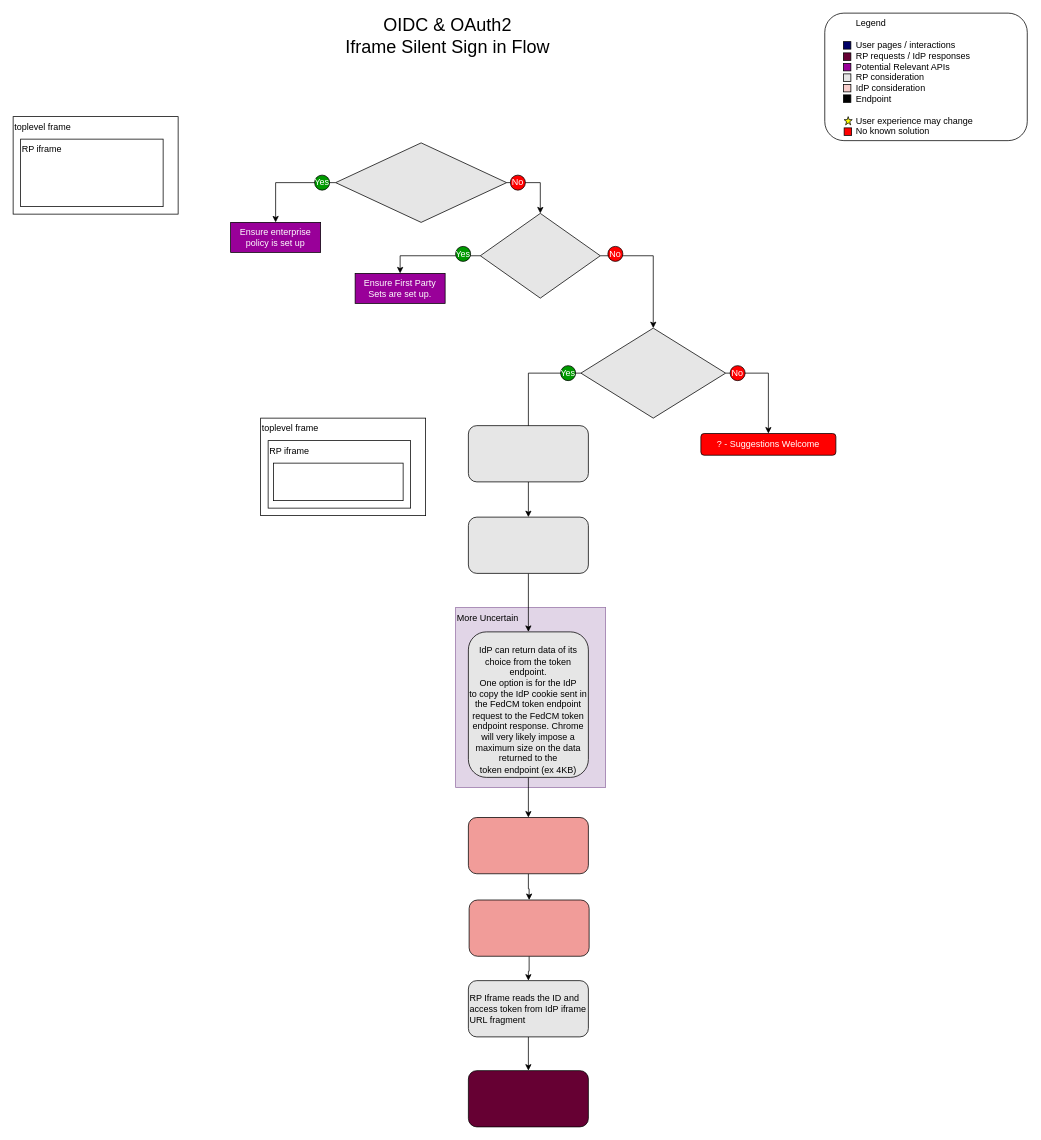
The diagram is 1041 pixels wide and 1140 high, and some of its shapes have lost their labels. The shapes that lost their labels are listed below. From the top down, each one's centre as x and y in pixels, then its label:
point (421, 182): Are third-party cookies enabled via enterprise policy?
point (540, 255): Is RP iframe in same First Party Set as toplevel frame?
point (653, 372): Did the user grant FedCM consent for (toplevel frame, IDP) pair?
point (528, 453): Dynamically create IdP iframe
point (338, 481): IdP iframe
point (528, 544): IdP iframe call FedCM API navigator.credentials.get() with mediation="silent"
point (528, 845): IdP iframe redirects to IdP authorization endpoint
point (528, 927): IdP iframe sets ID and access token in URL fragment
point (528, 1098): RP iframe stores session information
